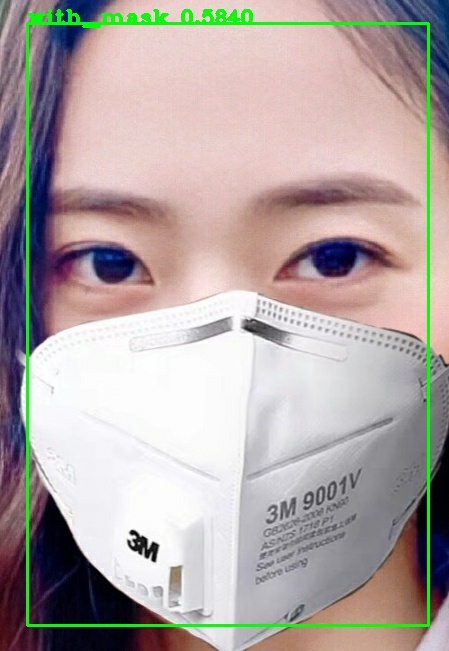with_mask: (2, 2, 449, 651)
